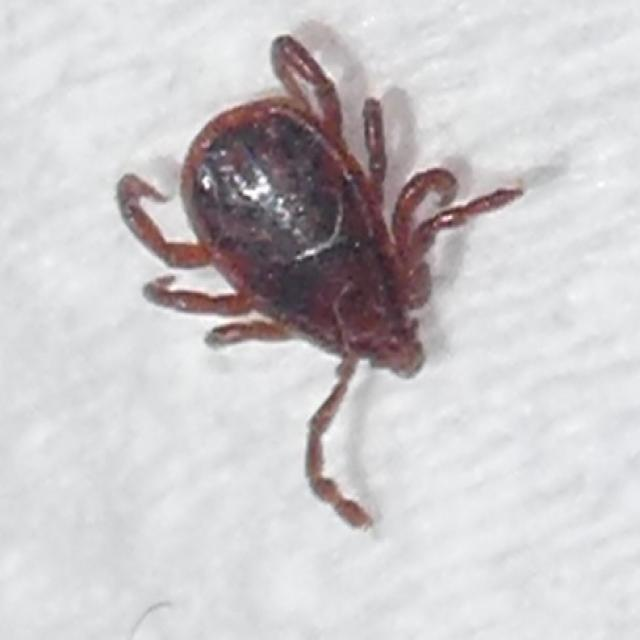Rhipicephalus Sanguineus-M: (114, 35, 524, 532)
